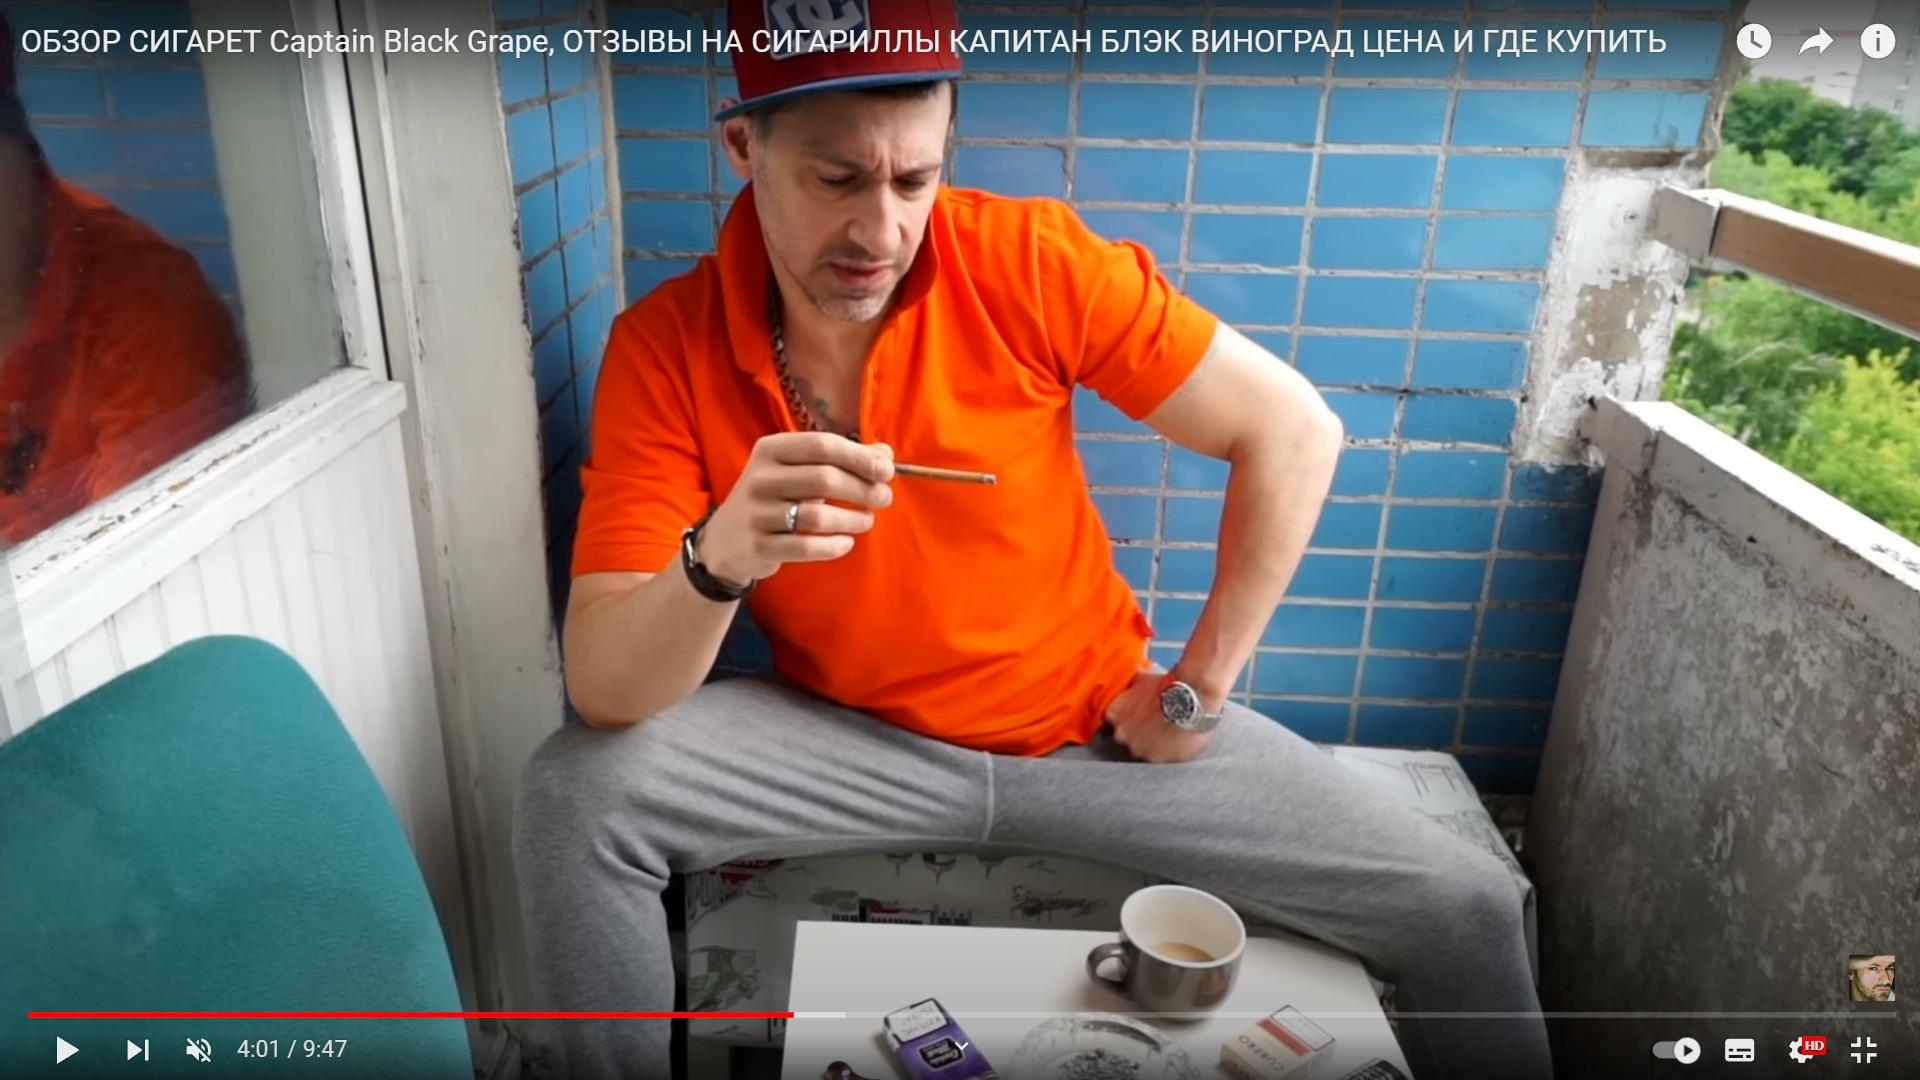cigarette: (895, 464, 997, 484)
